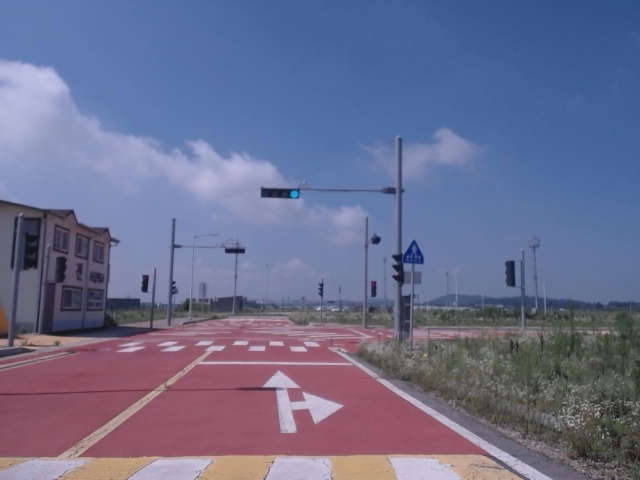straight_green_4: (260, 189, 300, 200)
